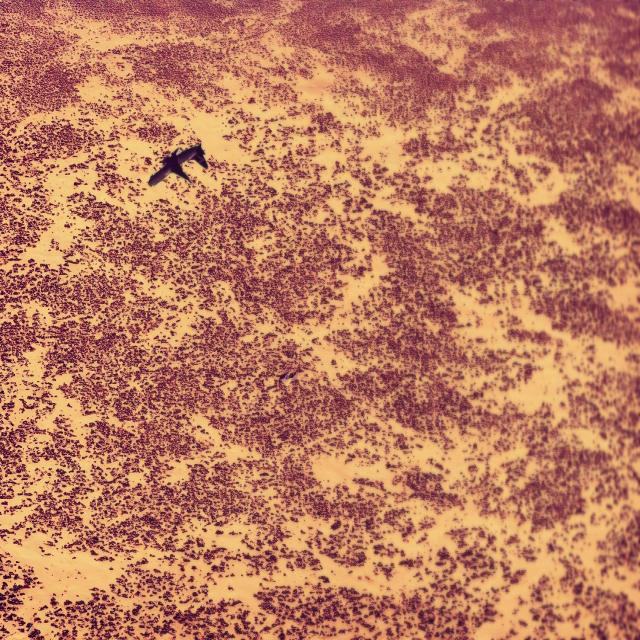airplane: (147, 141, 208, 188)
